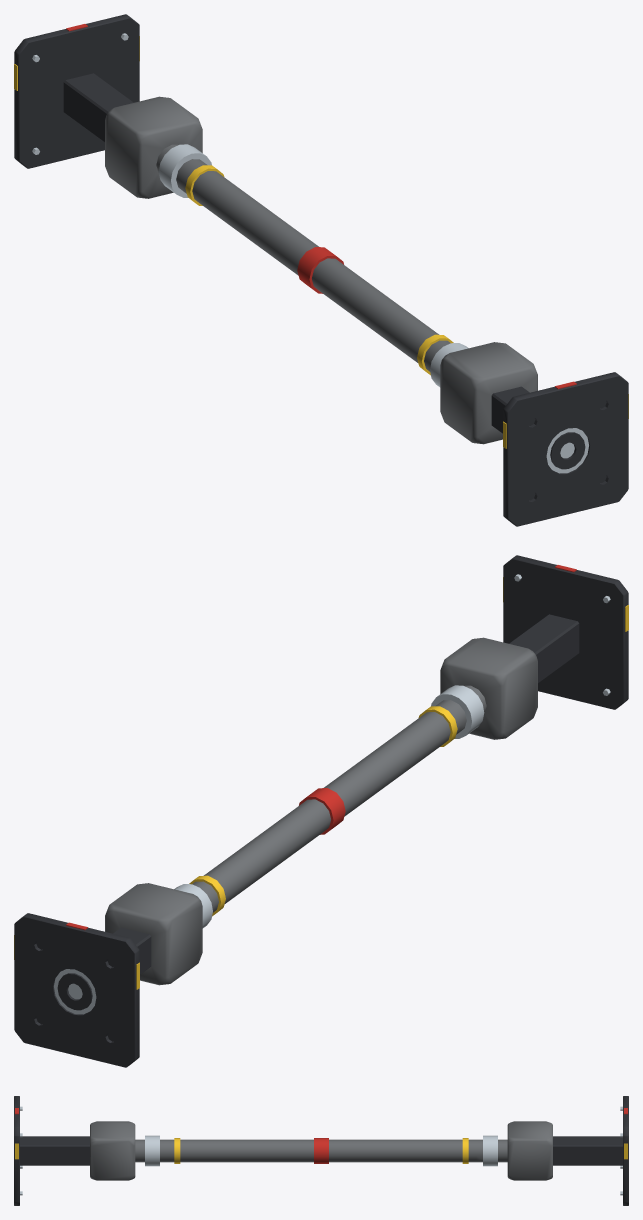
File: R4C_ROD_STANDARD.glb
3 views of the same model, one above another, from view 1: azimuth 30°, elevation 25°; view 2: azimuth 150°, elevation 25°; view 3: azimuth 270°, elevation 25° (orthographic). The views are drawn at different scales.
Parts seen in each view (by area): view 1: R4C_ROD_STANDARD; view 2: R4C_ROD_STANDARD; view 3: R4C_ROD_STANDARD.
Part boxes in pixels (box(x1,y1,x2,y2)): R4C_ROD_STANDARD: box(14, 14, 628, 526); R4C_ROD_STANDARD: box(14, 555, 628, 1067); R4C_ROD_STANDARD: box(14, 1096, 628, 1205).
Bounding box in the file's own units: 0.2332 × 0.2316 × 1.62.
